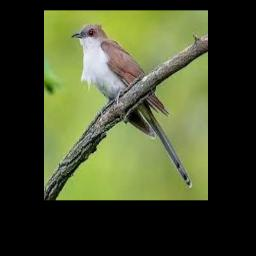Cuckoo: (72, 24, 192, 187)
